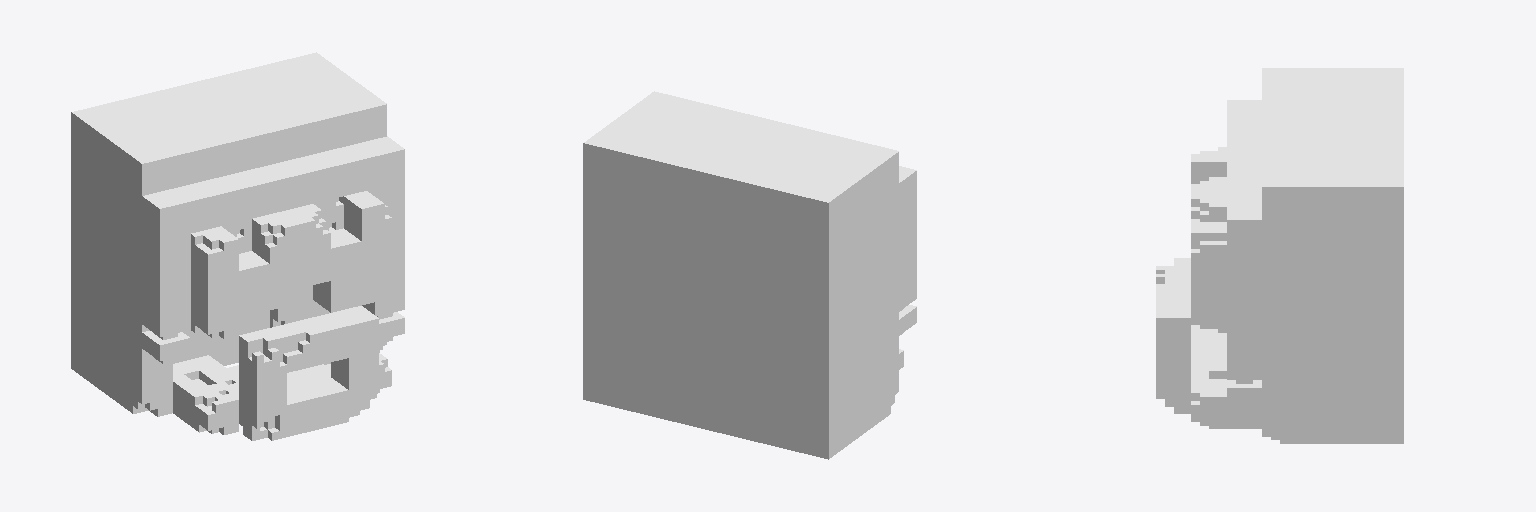
Rendered from mummy_head.obj.
3 renders of one model, left to right at view 1: azimuth 30°, elevation 25°; view 2: azimuth 150°, elevation 25°; view 3: azimuth 270°, elevation 25°, orthographic.
Parts seen in each view (by area): view 1: object 1; view 2: object 1; view 3: object 1.
Part boxes in pixels (x1,y1,x2,y2): object 1: (71,52,404,440); object 1: (583,91,916,459); object 1: (1156,68,1403,443).
Size of the model in its own units: 3.2 by 3.2 by 2.8.